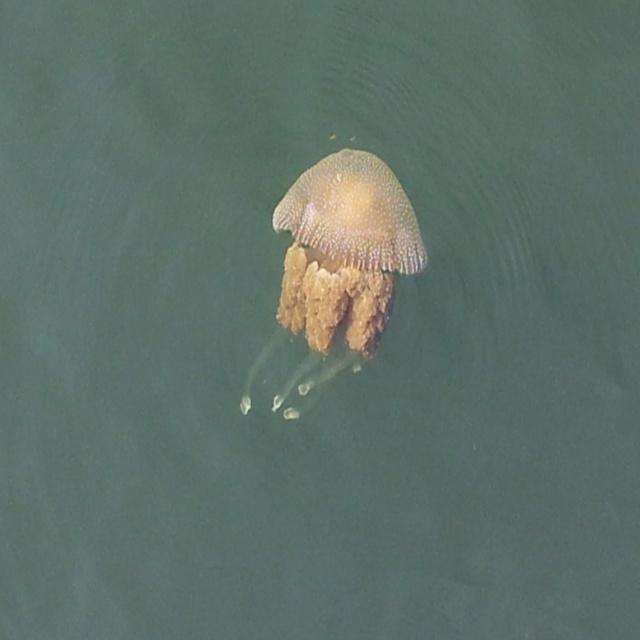Jellyfish: (262, 134, 442, 382)
